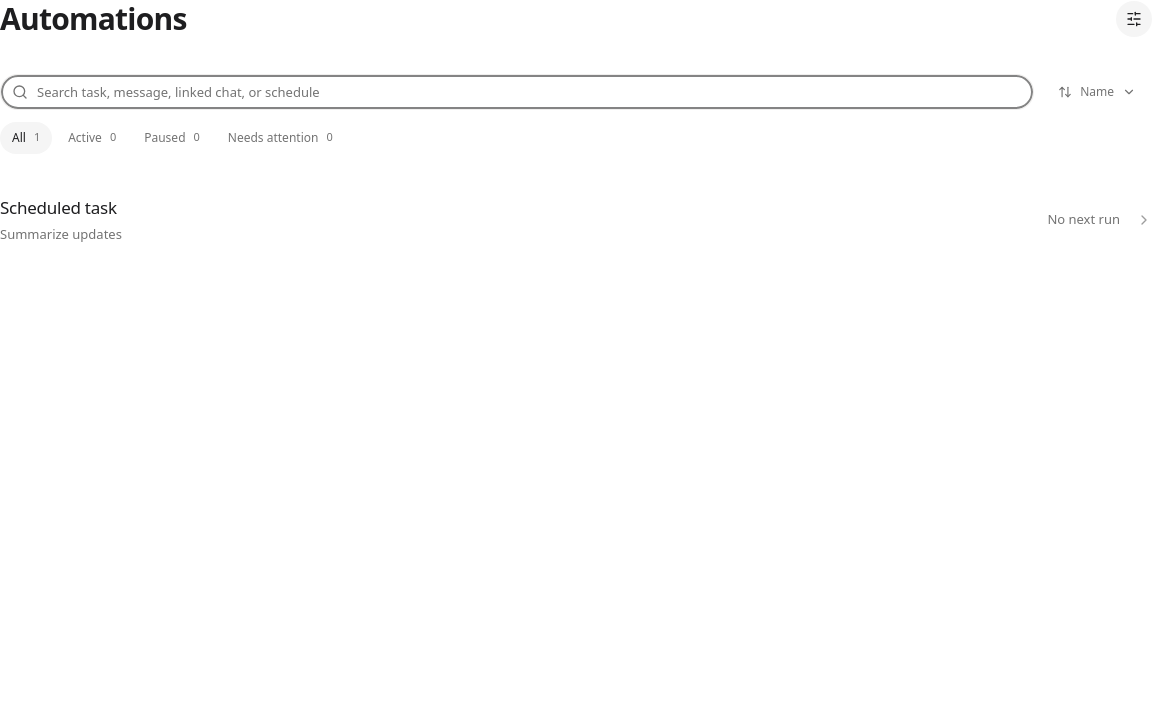
Test case: automation channel identity › preserves the label for extension-chat
The image size is (1152, 720).
What coordinates should you click on to do the following:
click the button "Scheduled task Summarize updates No next run"
I would click on:
 (58, 207)
Its box is [0,174,1151,266].
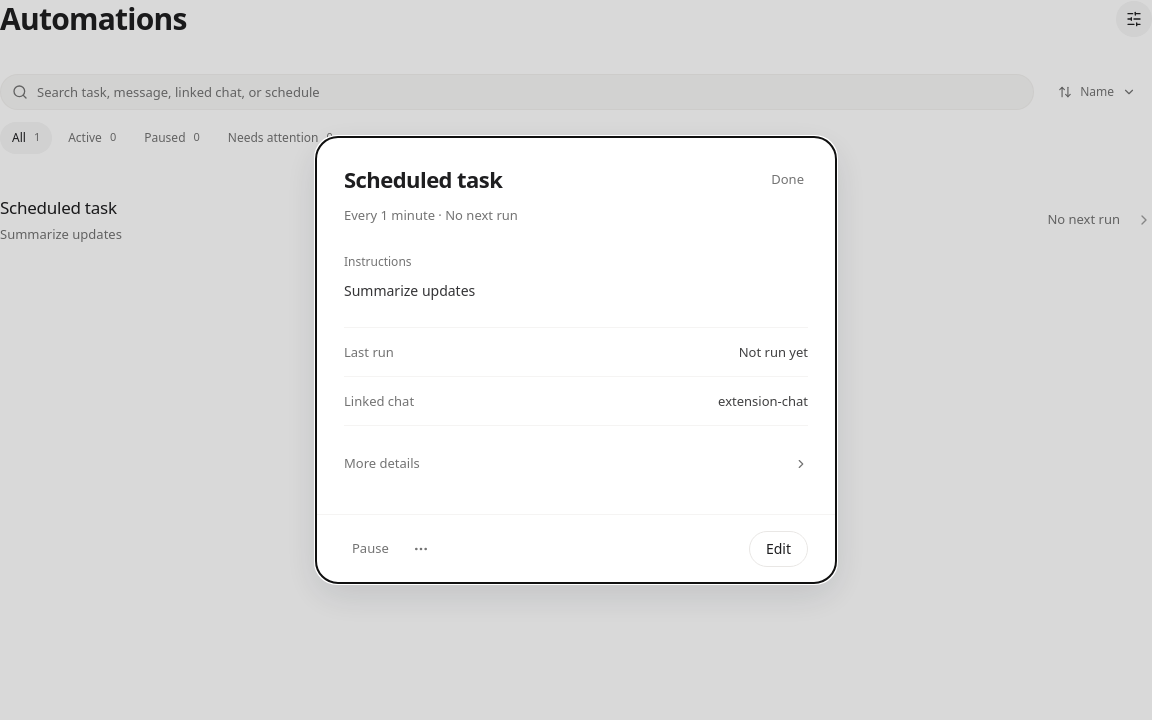
Result: the text "extension-chat" is shown at [718,392,808,410]
